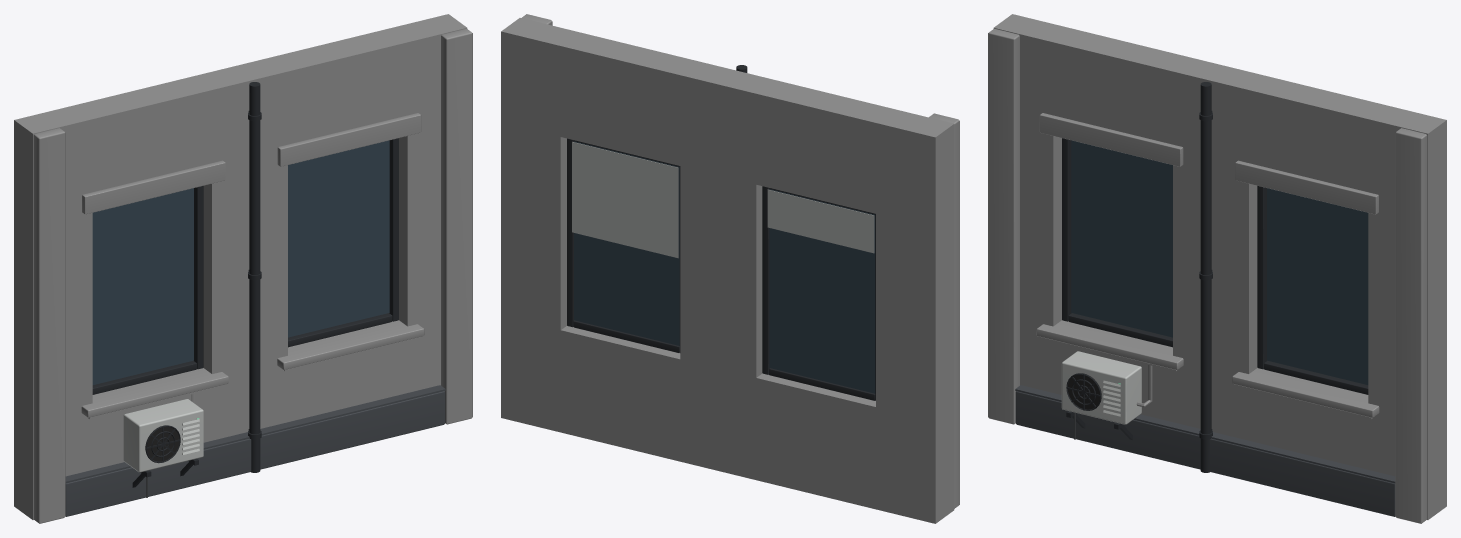
Rendered from Building_Facade_Plaster_Window_Double.fbx.
The picture shows the model from 3 angles, left to right: view 1: azimuth 30°, elevation 25°; view 2: azimuth 150°, elevation 25°; view 3: azimuth 330°, elevation 25°; orthographic projection.
Visible parts, largest first — view 1: Building_Facade_Plaster_Window_Double_LOD0; view 2: Building_Facade_Plaster_Window_Double_LOD0; view 3: Building_Facade_Plaster_Window_Double_LOD0.
Part boxes in pixels (left/top/right/bottom): Building_Facade_Plaster_Window_Double_LOD0: left=14, top=14, right=472, bottom=523; Building_Facade_Plaster_Window_Double_LOD0: left=501, top=14, right=959, bottom=523; Building_Facade_Plaster_Window_Double_LOD0: left=988, top=14, right=1446, bottom=523.
Size of what is drawn, in the model's own units: 4 by 3.4 by 0.63.
